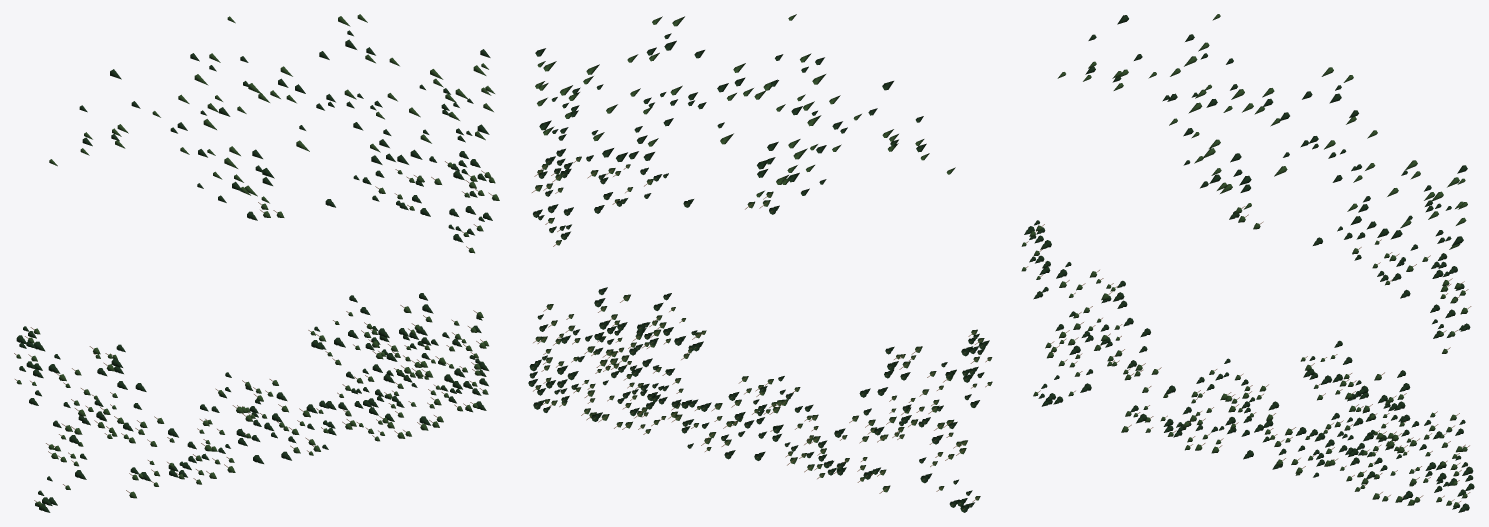
File: forest_7.obj
3 views of the same model, side by side, from view 1: azimuth 30°, elevation 25°; view 2: azimuth 150°, elevation 25°; view 3: azimuth 330°, elevation 25° (orthographic). The views are drawn at different scales.
Size of the model in its own units: 554 by 516 by 49.21.
